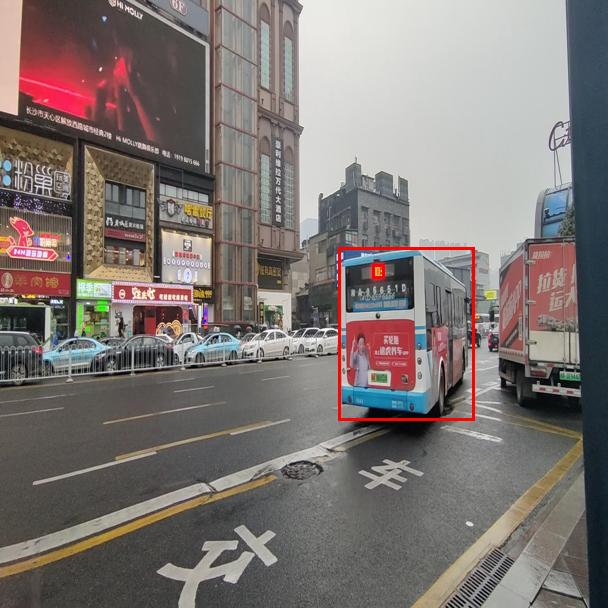bus: (338, 247, 474, 420)
screen: (372, 264, 384, 278)
